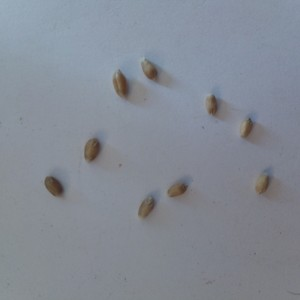trigo: (136, 56, 163, 82), (109, 68, 132, 97), (201, 91, 224, 119), (41, 174, 65, 200), (134, 193, 157, 220), (81, 136, 102, 165), (254, 167, 272, 198), (238, 114, 254, 142), (164, 178, 186, 198), (1, 145, 2, 146)
